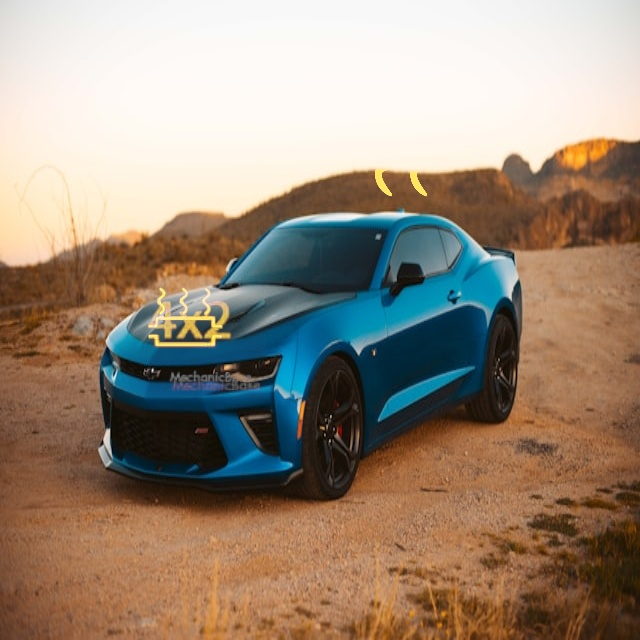symbol: (322, 39, 499, 216), (112, 244, 266, 398), (114, 246, 257, 389)
